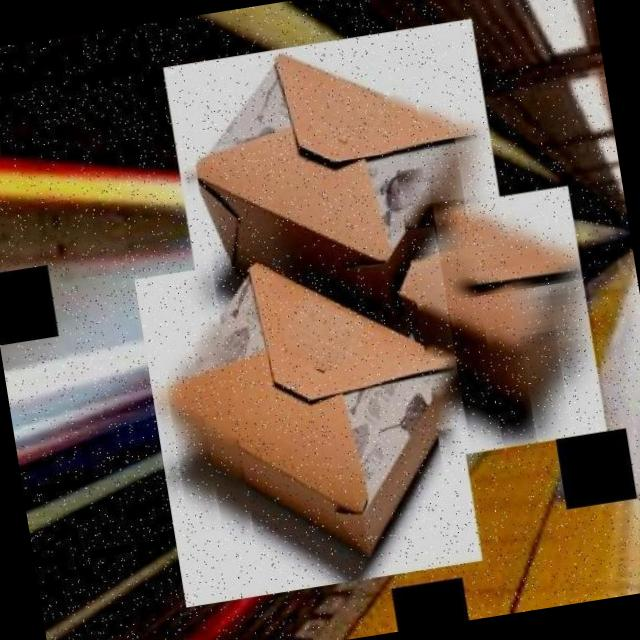box: (130, 227, 490, 616), (160, 15, 518, 332), (386, 181, 612, 466)
